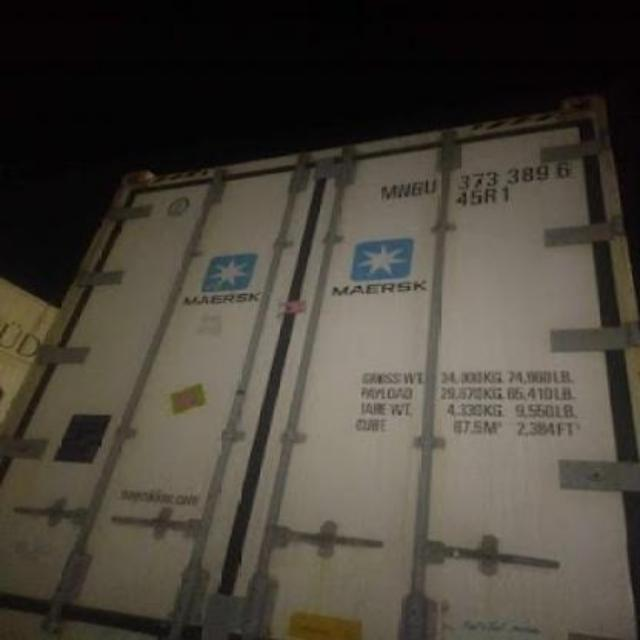3: (484, 167, 502, 190), (504, 164, 522, 186), (454, 174, 472, 190)
6: (556, 158, 574, 178)
7: (470, 168, 486, 190)
8: (522, 163, 534, 187)
9: (534, 160, 552, 186)
B: (410, 176, 422, 202)
M: (376, 176, 396, 202)
N: (398, 178, 412, 206)
U: (424, 175, 440, 202)
